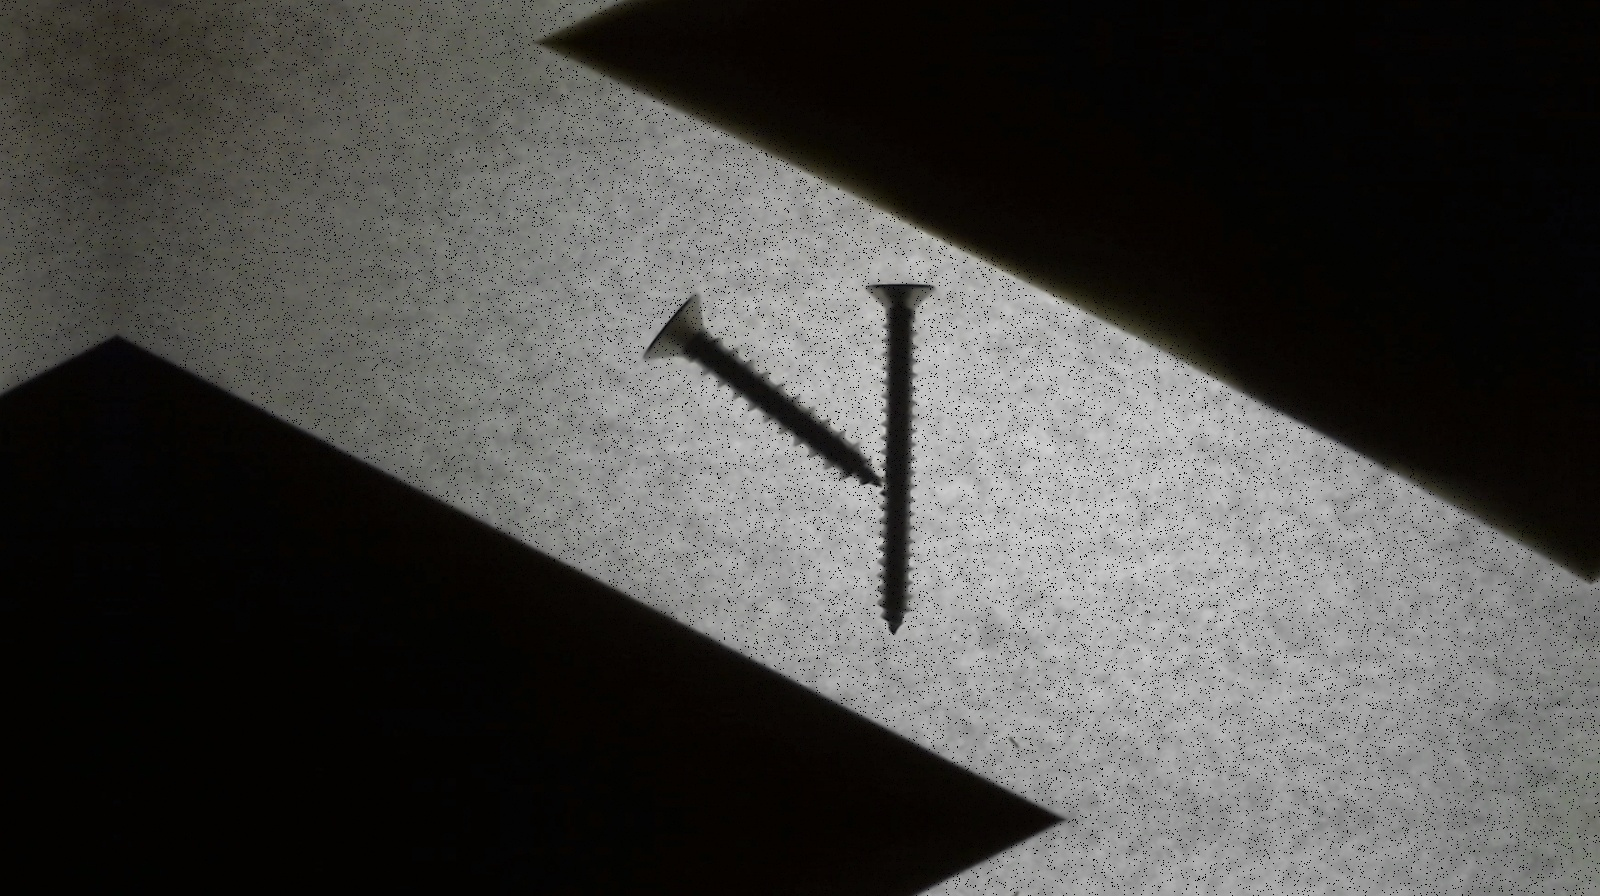S001: (636, 283, 875, 500)
S002: (857, 268, 938, 642)
